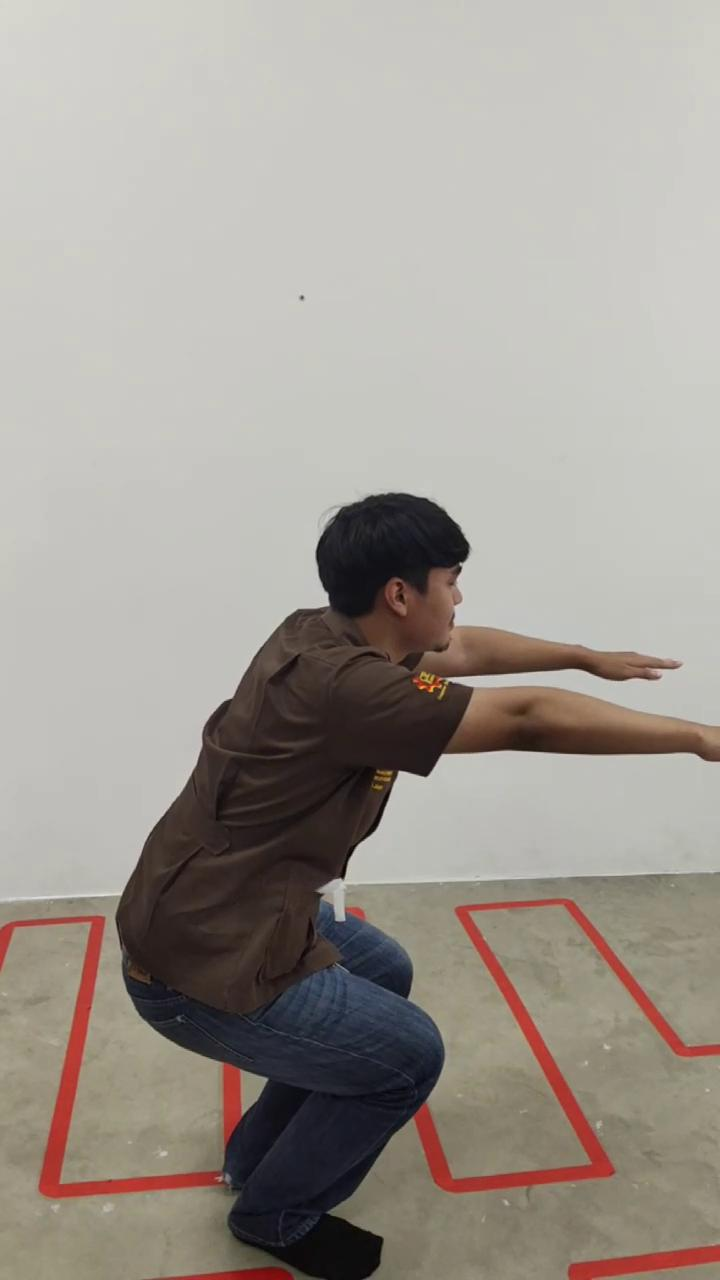squat down: (118, 492, 718, 1280)
